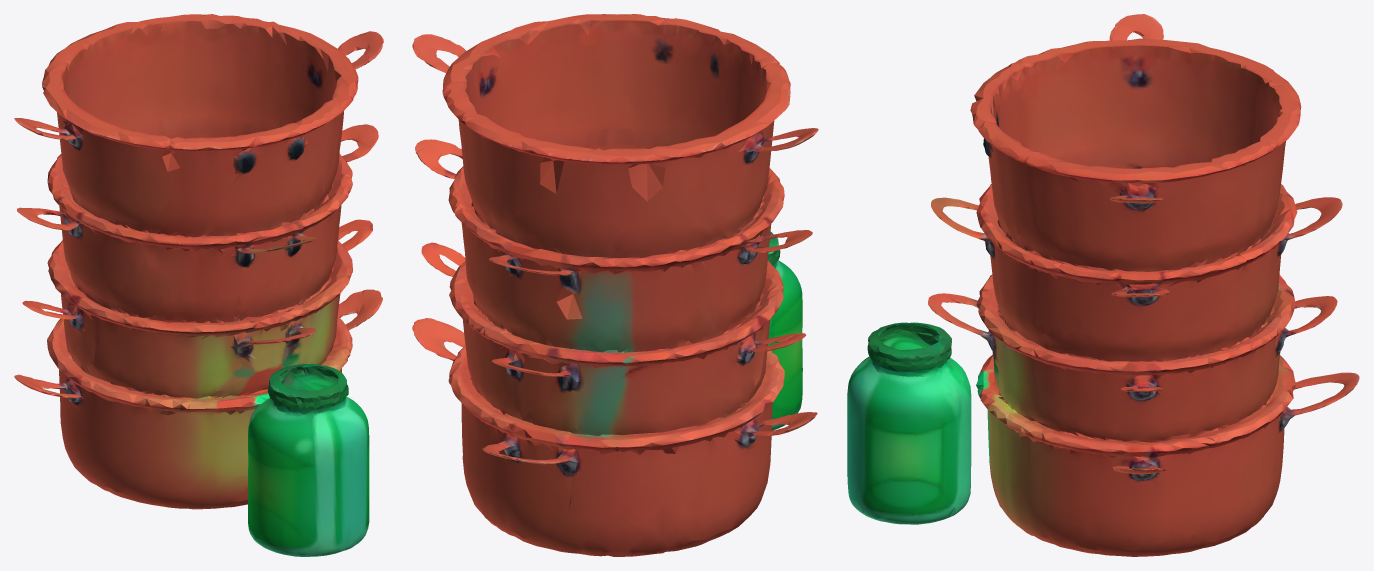
The model's file is Furn_SprigPots.glb.
3 renders of one model, left to right at view 1: azimuth 30°, elevation 25°; view 2: azimuth 150°, elevation 25°; view 3: azimuth 270°, elevation 25°, orthographic. The views are drawn at different scales.
Visible parts, largest first — view 1: Furn_SprigPots; view 2: Furn_SprigPots; view 3: Furn_SprigPots.
Part boxes in pixels (<box>): Furn_SprigPots: <box>14,14,383,556</box>; Furn_SprigPots: <box>412,14,818,556</box>; Furn_SprigPots: <box>847,14,1359,556</box>.
Bounding box in the file's own units: 0.7506 × 0.75 × 0.8777.
Materials: 1 (1 with a texture image).
